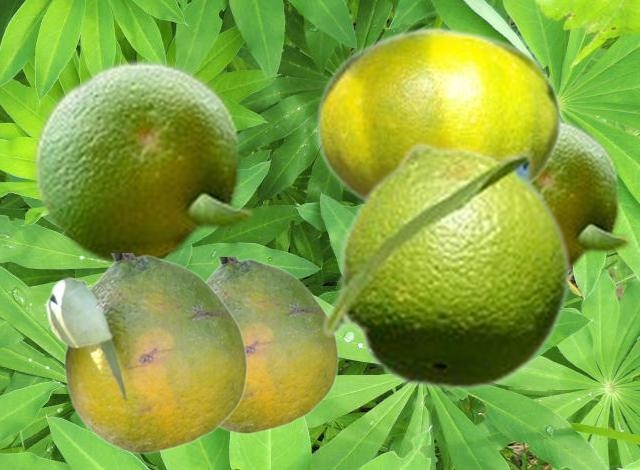dalandan: (319, 141, 572, 392), (30, 56, 256, 265), (315, 26, 561, 201), (44, 253, 247, 453), (206, 257, 338, 433), (536, 118, 632, 272)
